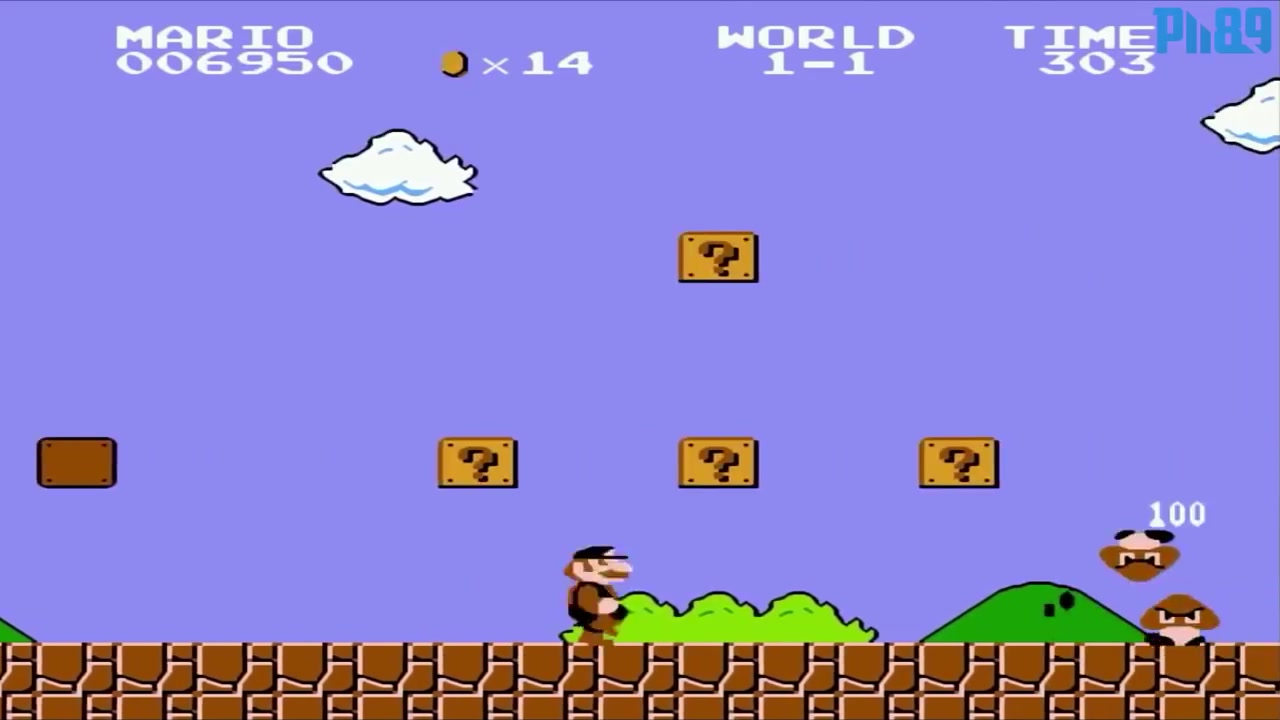mario: (548, 527, 645, 645)
